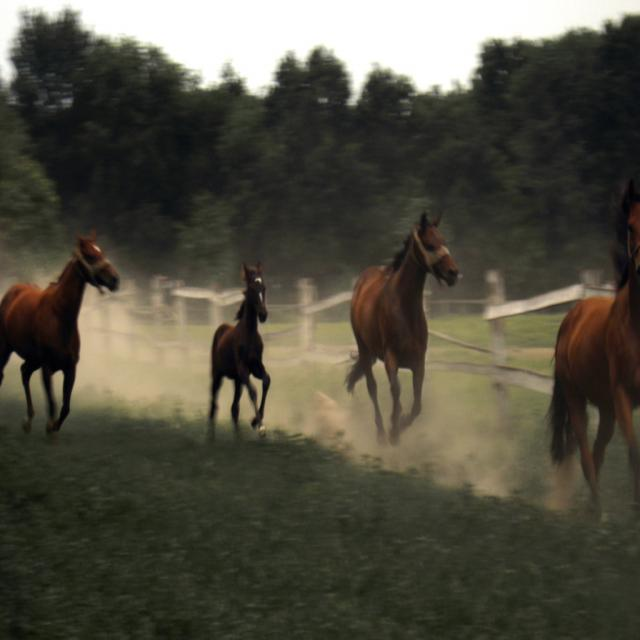Horse: (546, 177, 640, 521), (340, 206, 462, 446), (0, 234, 120, 437), (210, 258, 270, 439)
